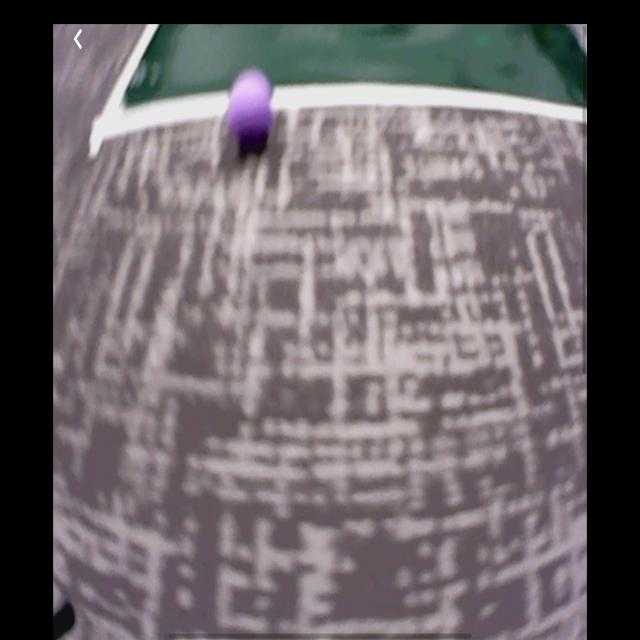ball: (225, 66, 274, 158)
